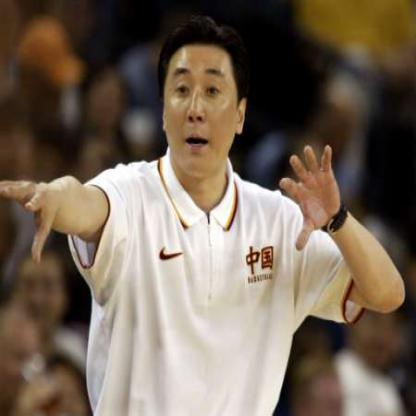face: (167, 26, 240, 180), (19, 253, 64, 337), (92, 73, 123, 128)
